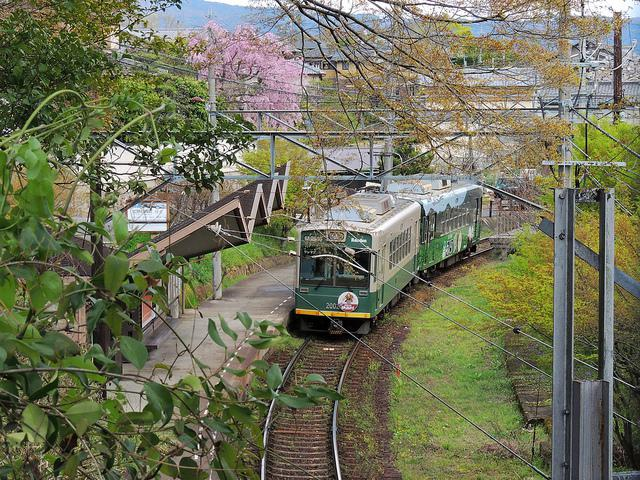Train: (294, 174, 490, 336)
